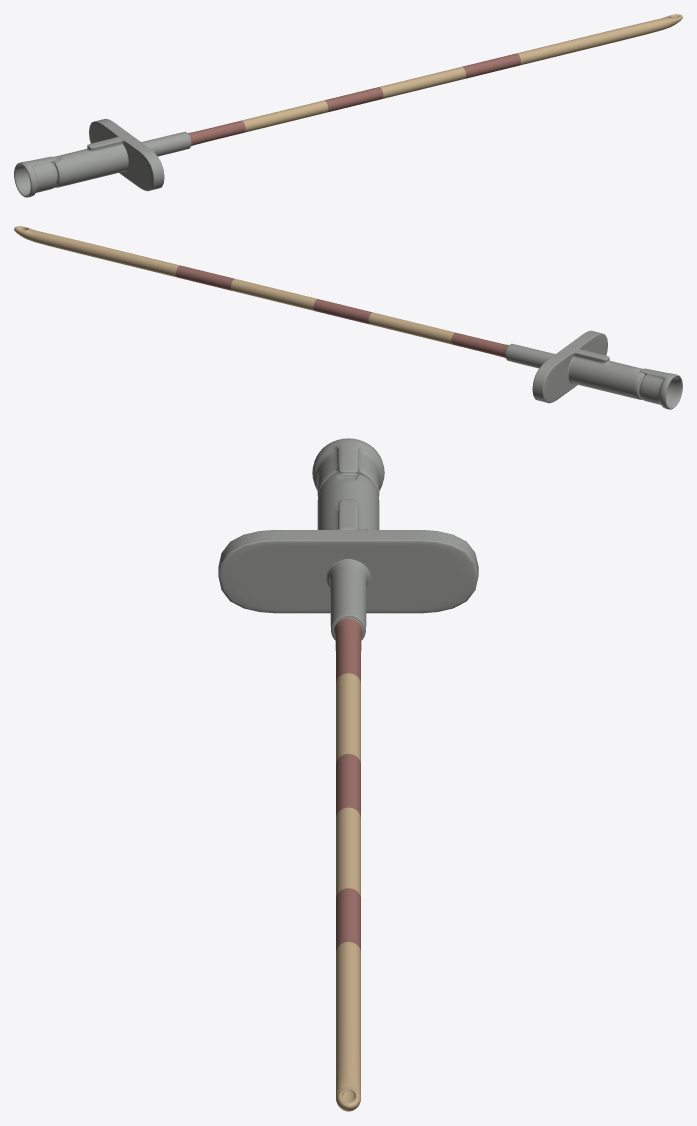
File: TuohyNeedle.fbx
3 views of the same model, one above another, from view 1: azimuth 30°, elevation 25°; view 2: azimuth 150°, elevation 25°; view 3: azimuth 270°, elevation 25° (orthographic). The views are drawn at different scales.
Parts seen in each view (by area): view 1: pCylinder1; view 2: pCylinder1; view 3: pCylinder1.
Boxes of the visible parts, x1,y1,x2,y2 form: pCylinder1: (14, 14, 682, 197); pCylinder1: (14, 226, 682, 409); pCylinder1: (218, 438, 478, 1111).
Size of the model in its own units: 0.1199 by 0.00634 by 0.0205.
